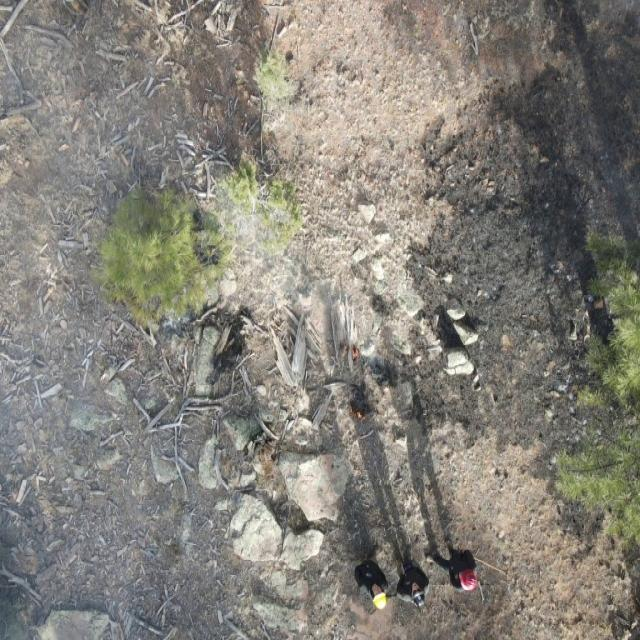fire: (346, 402, 372, 428), (339, 340, 366, 364)
smoke: (0, 0, 195, 640), (225, 201, 378, 374), (198, 501, 314, 640)
